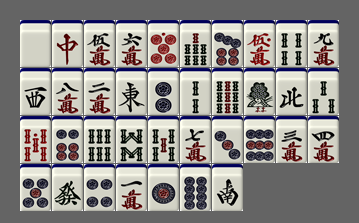0m: (244, 20, 275, 67)
0p: (148, 20, 179, 67)
0s: (20, 116, 51, 163)
1m: (116, 164, 147, 211)
1p: (148, 164, 179, 211)
1s: (244, 68, 275, 115)
1z: (116, 68, 147, 115)
2m: (84, 68, 115, 115)
2p: (148, 68, 179, 115)
2s: (180, 68, 211, 115)
2z: (212, 164, 243, 211)
3m: (276, 116, 307, 163)
3p: (212, 116, 243, 163)
3s: (308, 68, 339, 115)
3z: (20, 68, 51, 115)
4m: (308, 116, 339, 163)
4p: (84, 164, 115, 211)
4s: (276, 20, 307, 67)
4z: (276, 68, 307, 115)
5m: (84, 20, 115, 67)
5p: (20, 164, 51, 211)
5s: (148, 116, 179, 163)
5z: (20, 20, 51, 67)
6m: (116, 20, 147, 67)
6p: (52, 116, 83, 163)
6s: (84, 116, 115, 163)
6z: (52, 164, 83, 211)
7m: (180, 116, 211, 163)
7p: (212, 20, 243, 67)
7s: (180, 20, 211, 67)
7z: (52, 20, 83, 67)
8m: (52, 68, 83, 115)
8p: (180, 164, 211, 211)
8s: (116, 116, 147, 163)
9m: (308, 20, 339, 67)
9p: (244, 116, 275, 163)
9s: (212, 68, 243, 115)
